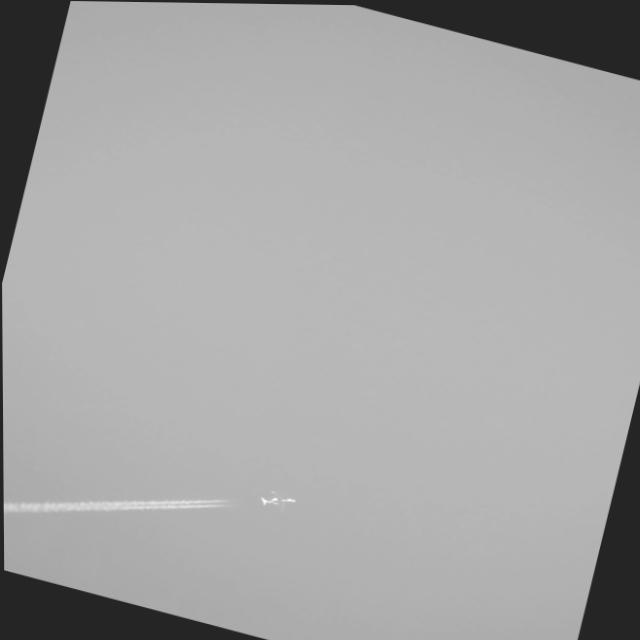aeroplane: (254, 484, 301, 517)
